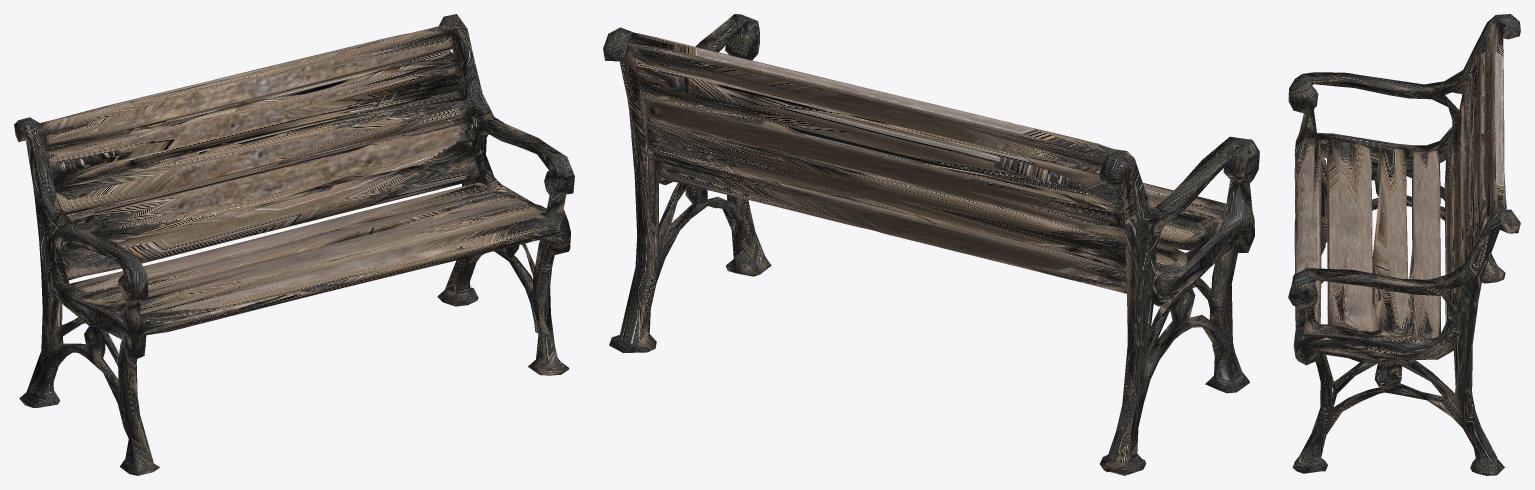
The model's file is bench.glb.
3 views of the same model, side by side, from view 1: azimuth 30°, elevation 25°; view 2: azimuth 150°, elevation 25°; view 3: azimuth 270°, elevation 25° (orthographic). The views are drawn at different scales.
Bounding box in the file's own units: 1.62 × 0.9432 × 0.7679.
1 material, 1 textured.
